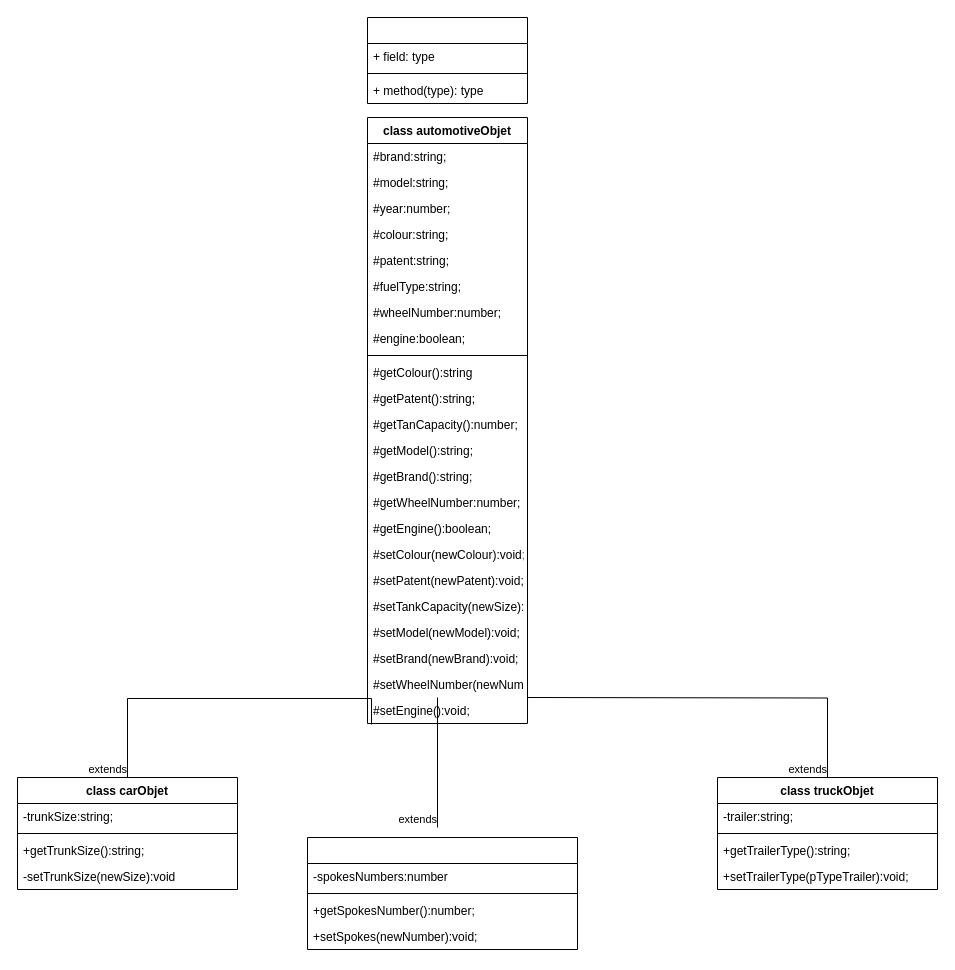
Image size: 955x970. Some labels were removed from this diagram. Each missing label, with the box of its shape:
class bicycleObjet: (306, 836, 578, 950)
class carRegistration: (366, 16, 528, 104)
